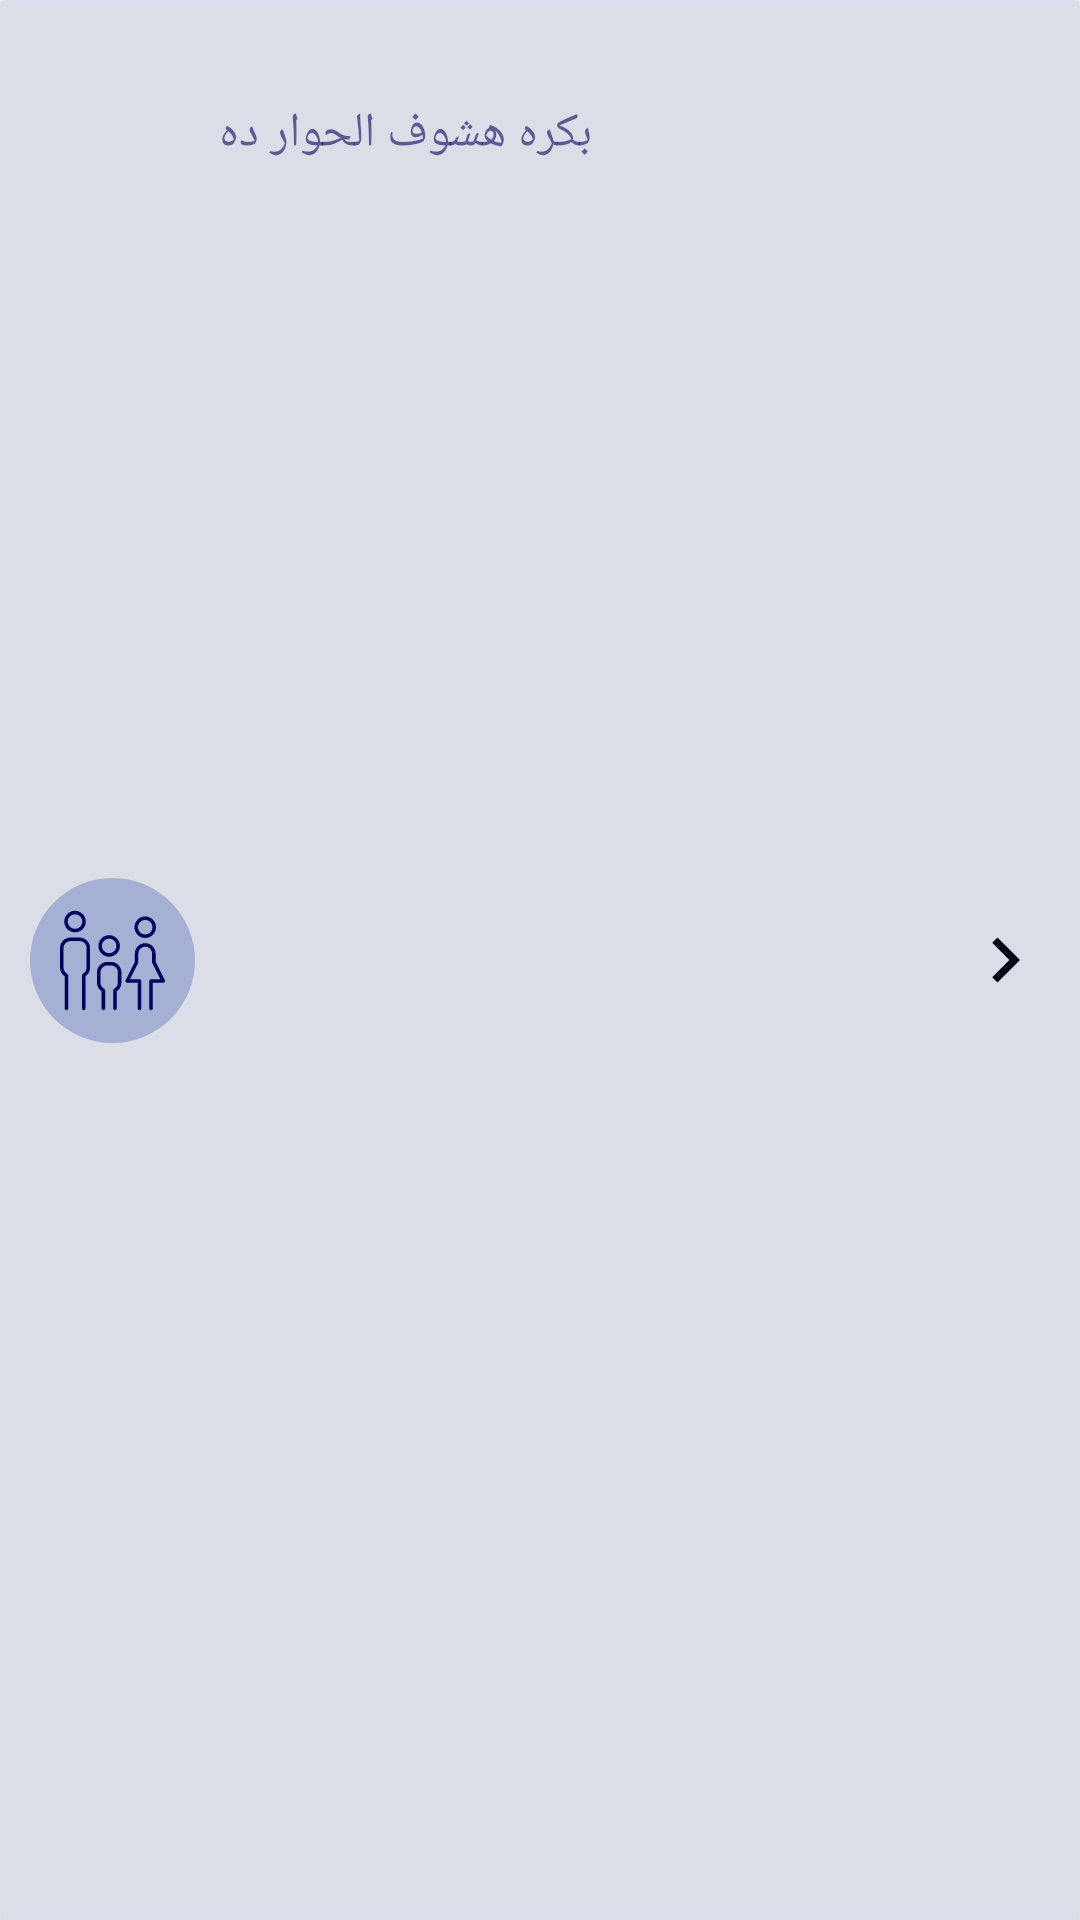

Point at icon controls on the screen. Image size 1080×1920, points as (x=x, y=y).
end arrow: (x=1006, y=960)
family room: (x=112, y=960)
